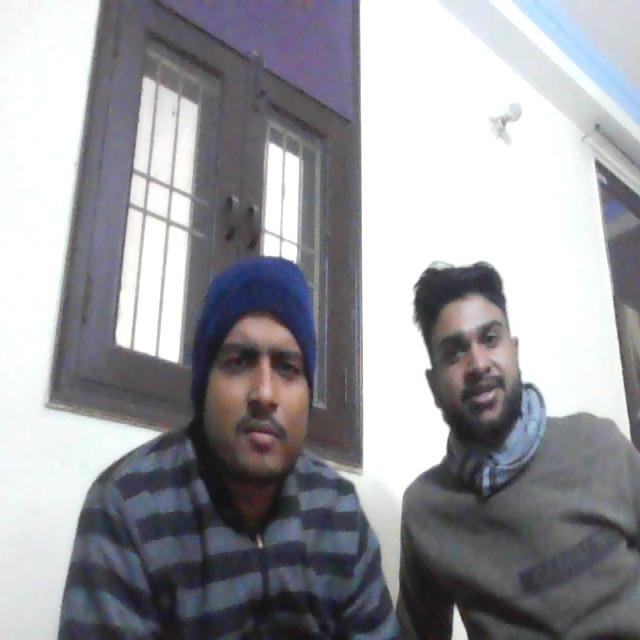real: (192, 260, 319, 500), (423, 246, 522, 434)
